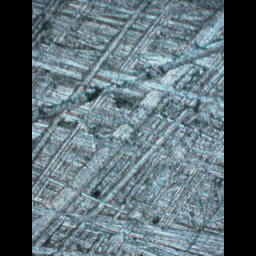d: (31, 0, 220, 214)
